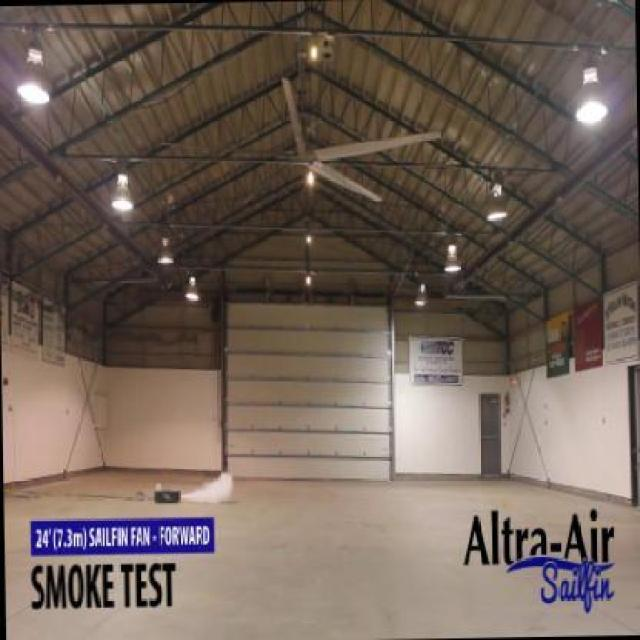fire: (184, 468, 238, 510)
